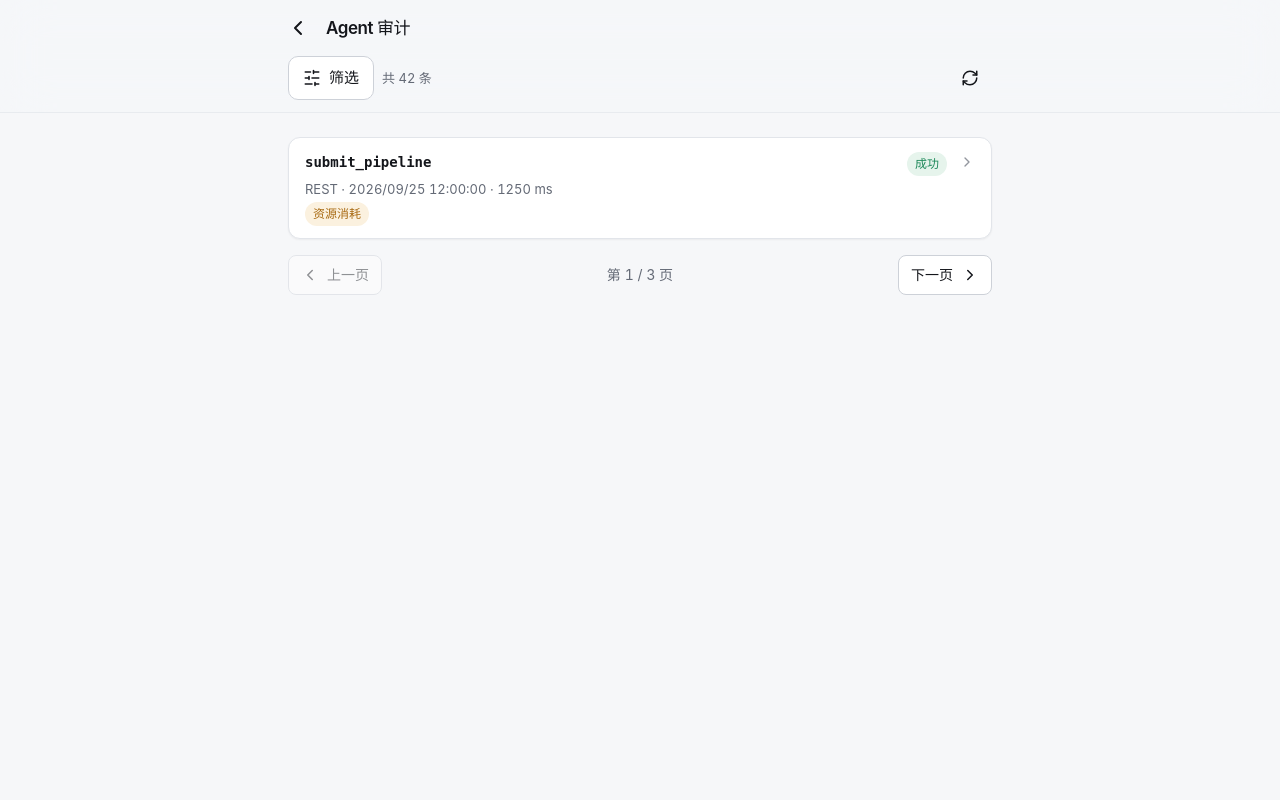
it: Agent audit page › A3 moves through filtered result pages and keeps filters in the URL
Expected: the text "submit_pipeline" is shown, [305, 150, 431, 174]
Click the button "筛选" at (331, 78), box [288, 56, 374, 100]
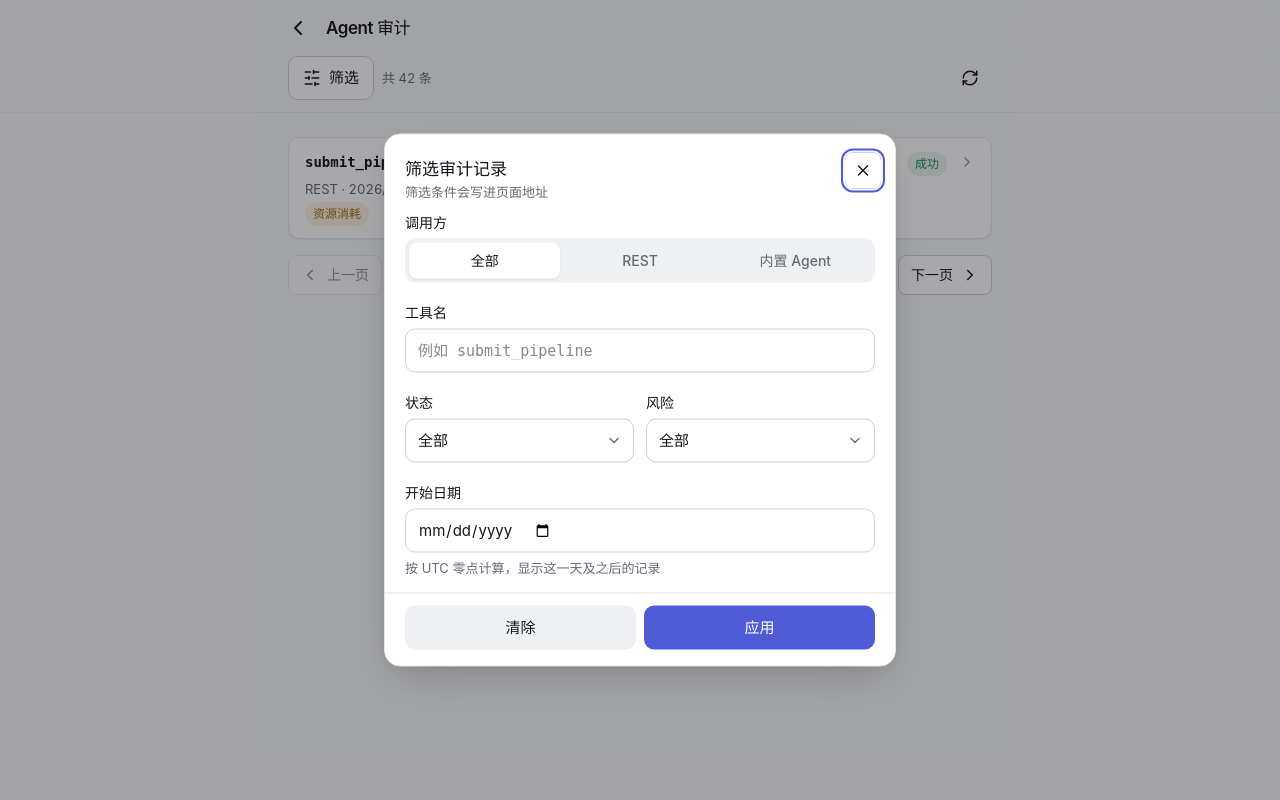
Click the radio button labelled "REST" at (640, 260), box [564, 242, 716, 278]
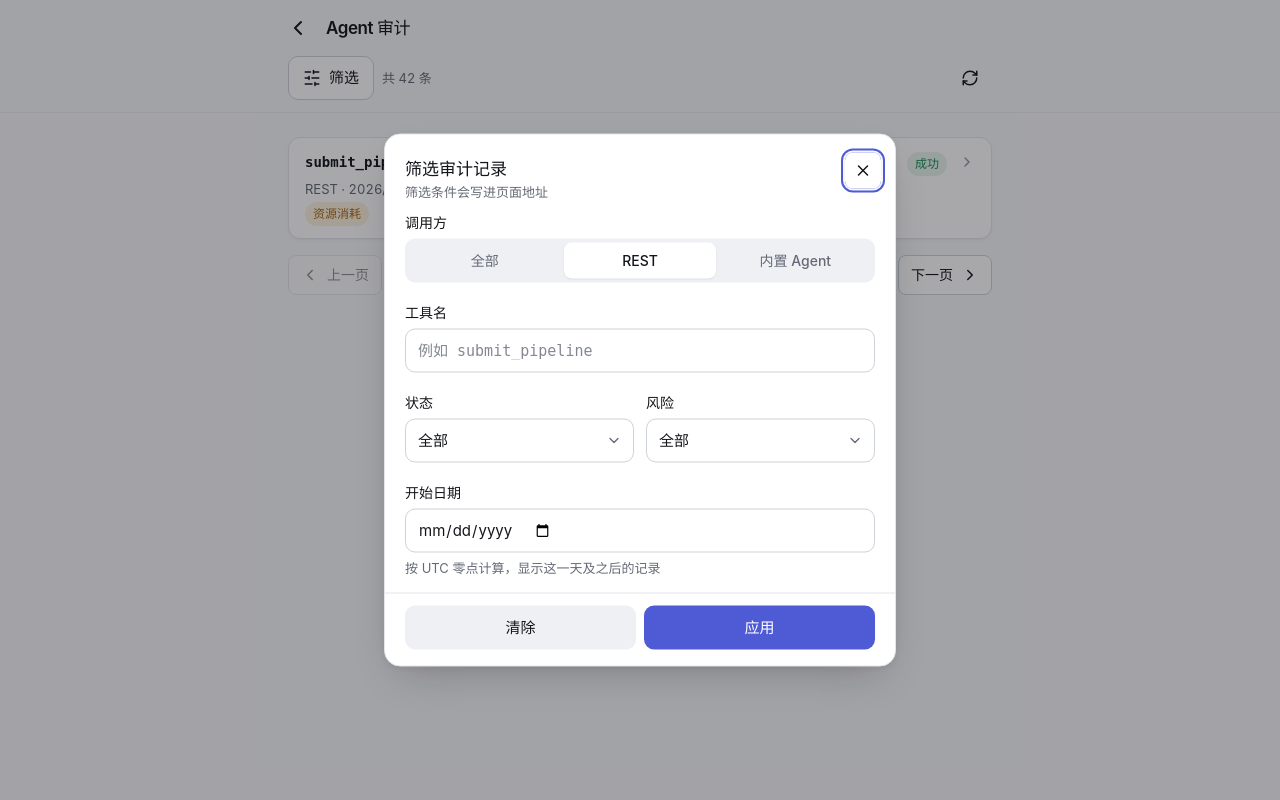
Select "成功" in the dropdown labelled "状态" at (520, 440), box [405, 418, 634, 462]
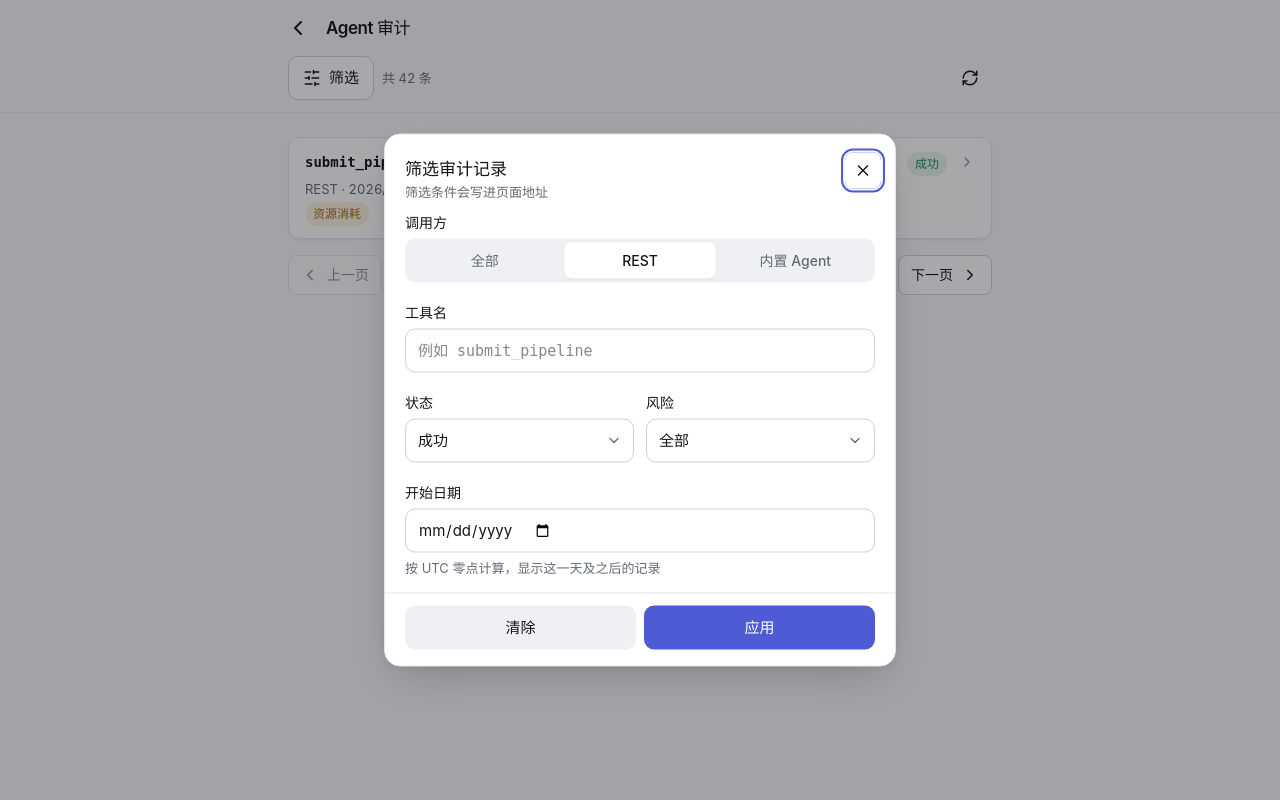
Click the button "应用" at (760, 628), box [644, 606, 875, 650]
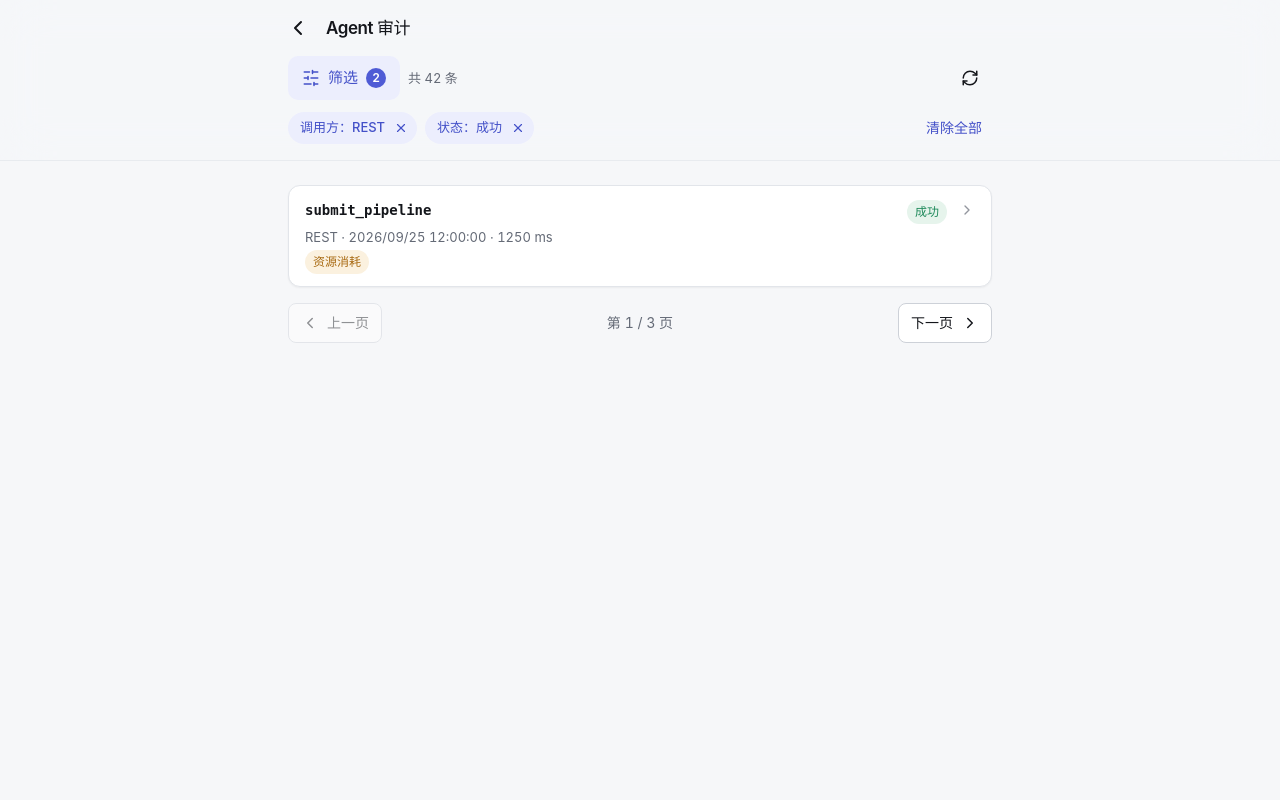
Expected: the text "第 1 / 3 页" is shown, [607, 313, 673, 333]
Now the dialog is gone
Click the button "下一页" at (945, 323), box [898, 303, 992, 343]
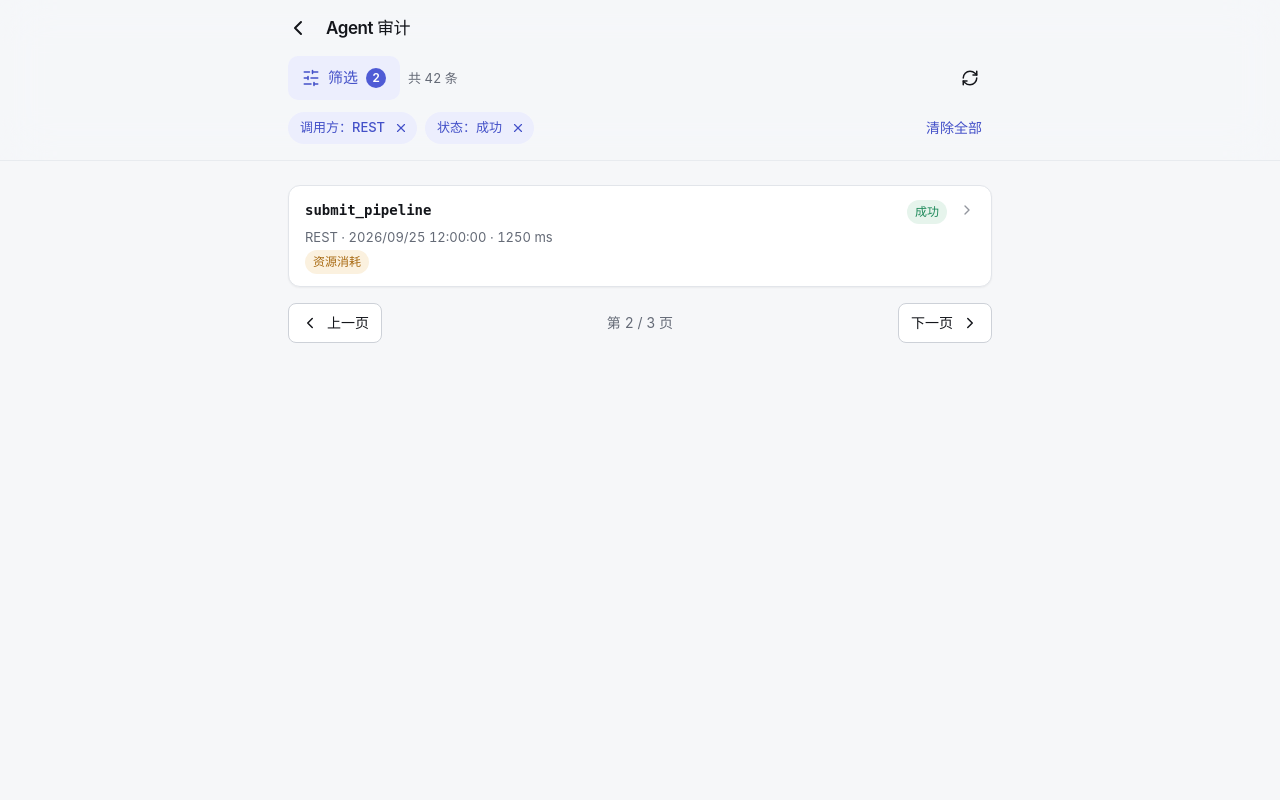
Now the text "第 2 / 3 页" is shown, box [607, 313, 673, 333]
